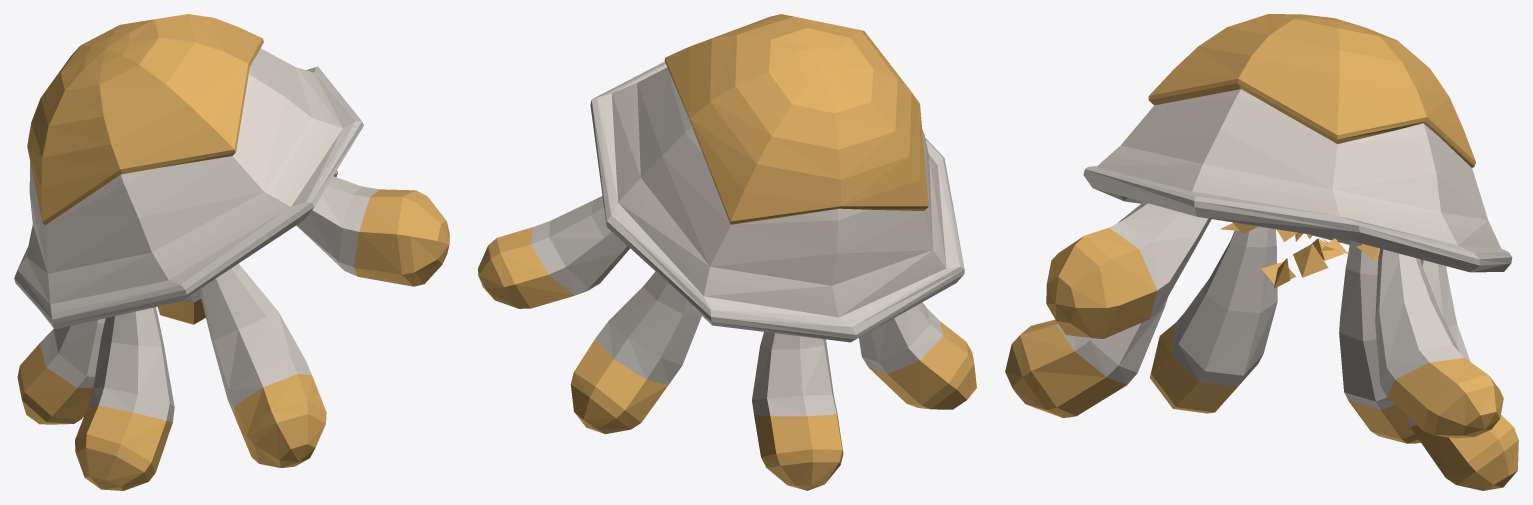
Rendered from CharSkyKid_Neck_Jellyfish_01.glb.
3 views of the same model, side by side, from view 1: azimuth 30°, elevation 25°; view 2: azimuth 150°, elevation 25°; view 3: azimuth 270°, elevation 25° (orthographic). The views are drawn at different scales.
Visible parts, largest first — view 1: CharSkyKid_Neck_Jellyfish_01; view 2: CharSkyKid_Neck_Jellyfish_01; view 3: CharSkyKid_Neck_Jellyfish_01.
Part boxes in pixels (left/top/right/bottom): CharSkyKid_Neck_Jellyfish_01: left=14, top=14, right=449, bottom=490; CharSkyKid_Neck_Jellyfish_01: left=478, top=14, right=976, bottom=490; CharSkyKid_Neck_Jellyfish_01: left=1005, top=14, right=1518, bottom=490.
Bounding box in the file's own units: 1.63 × 1.68 × 1.74.
Materials: 1 (1 with a texture image).
